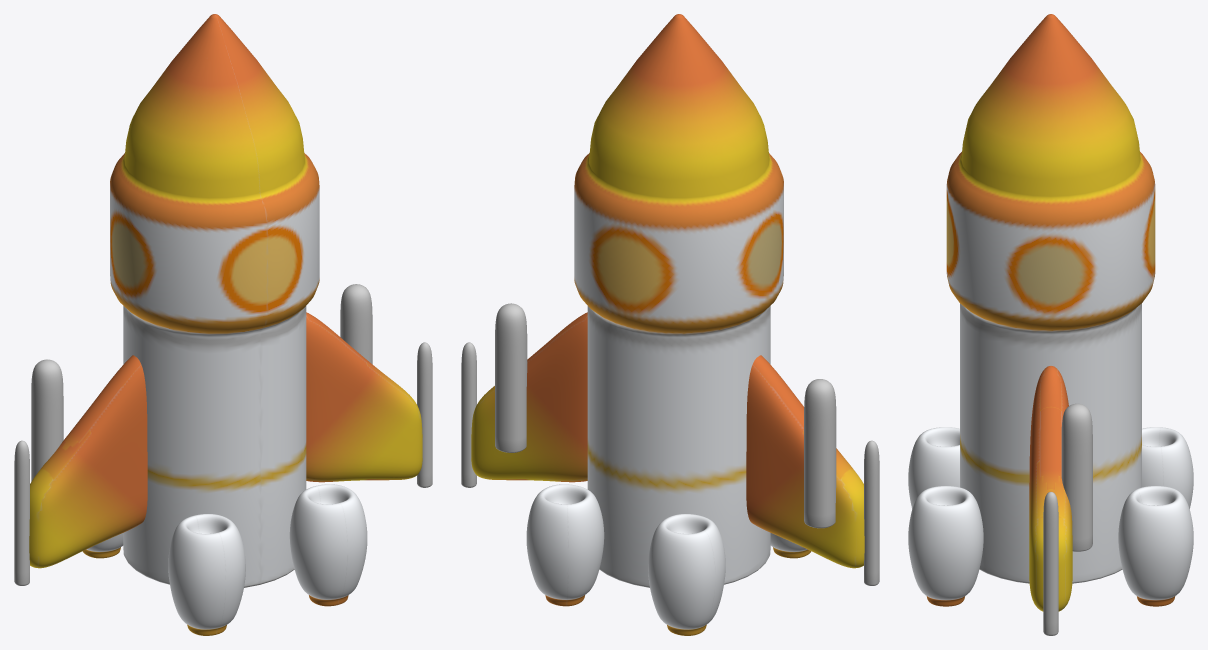
File: Rocket-2.fbx
3 renders of one model, left to right at view 1: azimuth 30°, elevation 25°; view 2: azimuth 150°, elevation 25°; view 3: azimuth 270°, elevation 25°, orthographic.
Parts seen in each view (by area): view 1: Rocket--2; view 2: Rocket--2; view 3: Rocket--2.
Boxes of the visible parts, x1=… form: Rocket--2: x1=14, y1=14, x2=432, y2=635; Rocket--2: x1=461, y1=14, x2=879, y2=635; Rocket--2: x1=908, y1=14, x2=1193, y2=635.
Bounding box in the file's own units: 401 × 516 × 241.
1 material, 1 textured.
